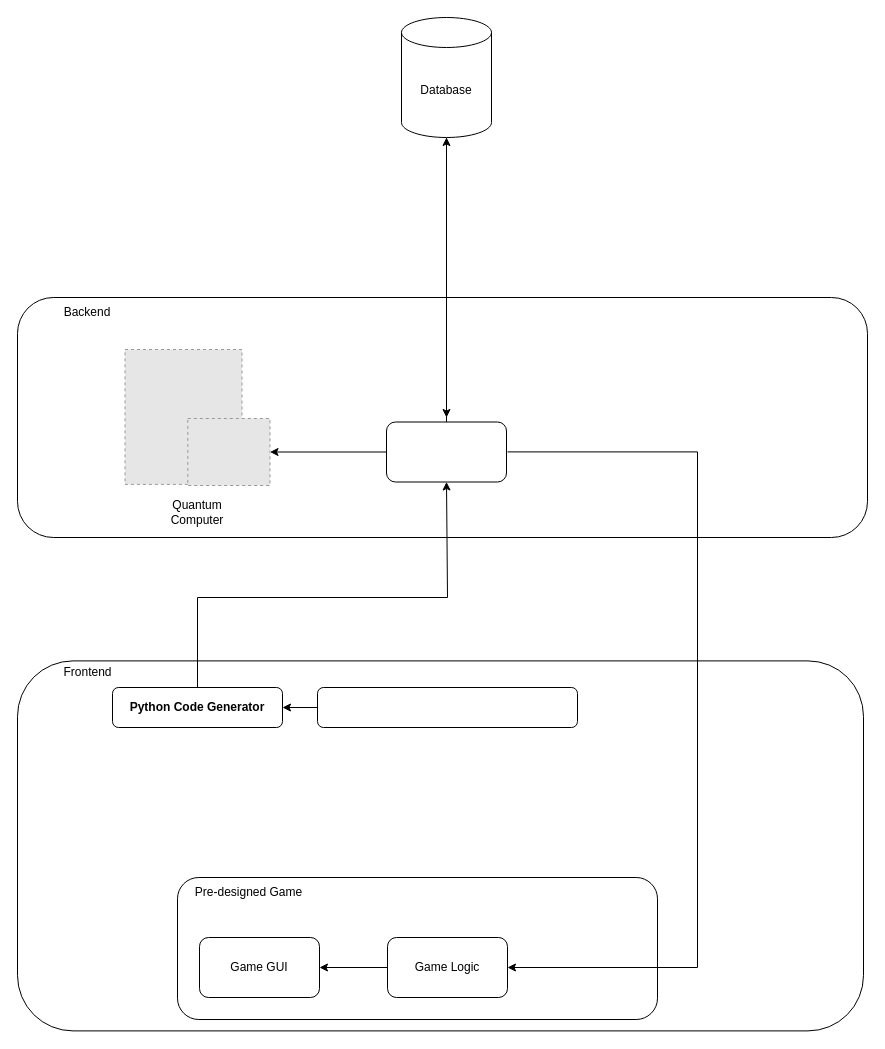
The diagram is 885 pixels wide and 1049 high, and some of its shapes have lost their labels. Grey dashed boxes stand in for pictures. The box of each missing label's shape, as (x1, y1, x2, y2) in pixels:
Block-based Interface: (316, 686, 578, 728)
Server Process: (386, 421, 506, 482)
